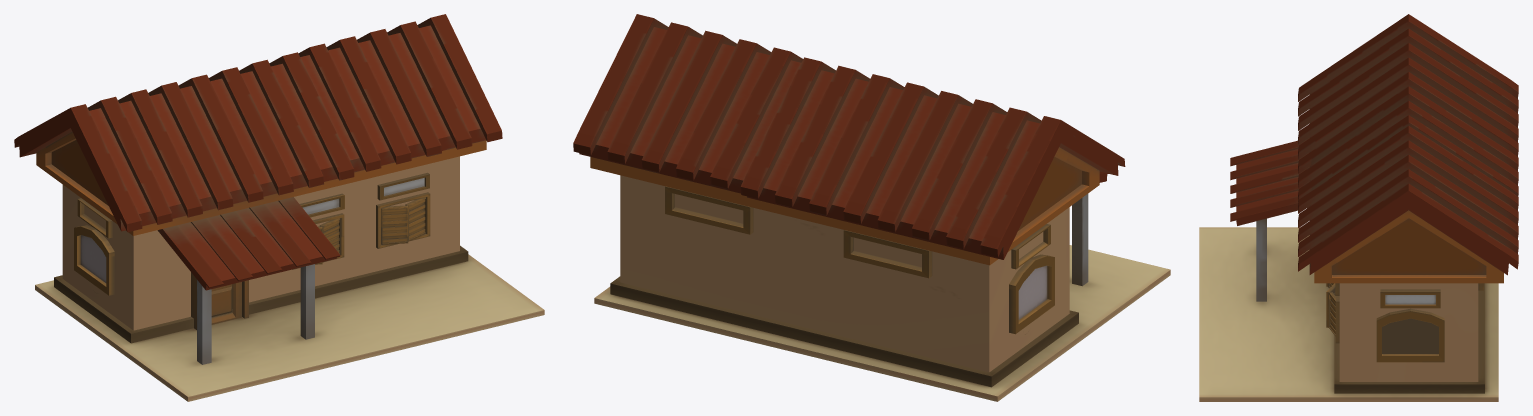
File: PROP_RMH_03.fbx
3 renders of one model, left to right at view 1: azimuth 30°, elevation 25°; view 2: azimuth 150°, elevation 25°; view 3: azimuth 270°, elevation 25°, orthographic. The views are drawn at different scales.
Visible parts, largest first — view 1: Cube.006; view 2: Cube.006; view 3: Cube.006.
Part boxes in pixels (box(x1,y1,x2,y2)): Cube.006: box(14, 14, 544, 401); Cube.006: box(573, 14, 1170, 401); Cube.006: box(1199, 14, 1518, 401).
Bounding box in the file's own units: 855 × 481 × 645.
